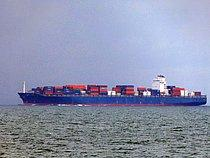Ship: (16, 71, 210, 110)
